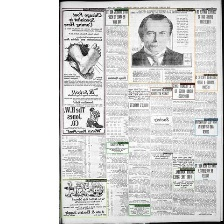news_paper: (59, 0, 223, 224)
